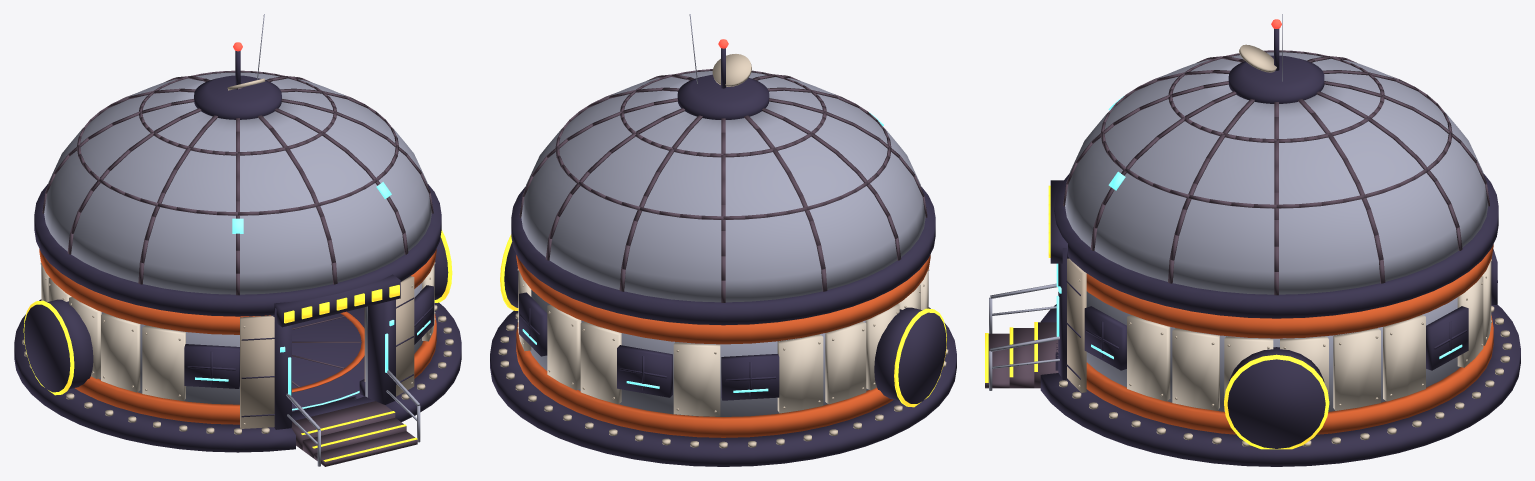
File: hab_enterable.glb
The picture shows the model from 3 angles, left to right: view 1: azimuth 30°, elevation 25°; view 2: azimuth 150°, elevation 25°; view 3: azimuth 270°, elevation 25°; orthographic projection. The views are drawn at different scales.
Parts seen in each view (by area): view 1: Hab_silver_b20, Hab_slate_b60, Hab_slate_b35, Hab_mauve_b04, Hab_orange_b35, Hab_pale_b20, Hab_slate_b20, Hab_door_b20, Hab_mauve_b20, Hab_slate_b12, Hab_amber_b12, Hab_cream_b12 (+4 smaller); view 2: Hab_silver_b20, Hab_slate_b60, Hab_pale_b20, Hab_orange_b35, Hab_mauve_b04, Hab_slate_b35, Hab_slate_b12, Hab_cream_b12, Hab_amber_b12, Hab_slate_b04; view 3: Hab_silver_b20, Hab_slate_b60, Hab_pale_b20, Hab_orange_b35, Hab_slate_b35, Hab_mauve_b04, Hab_slate_b12, Hab_mauve_b20, Hab_door_b20, Hab_cream_b12, Hab_amber_b12, Hab_silver_b12.
Boxes of the visible parts, bbox=[...] form: Hab_silver_b20: bbox=[44, 72, 431, 404]; Hab_slate_b60: bbox=[14, 184, 461, 452]; Hab_slate_b35: bbox=[24, 75, 448, 429]; Hab_mauve_b04: bbox=[42, 70, 433, 387]; Hab_orange_b35: bbox=[39, 249, 436, 424]; Hab_pale_b20: bbox=[41, 263, 434, 401]; Hab_slate_b20: bbox=[292, 307, 374, 420]; Hab_door_b20: bbox=[240, 276, 414, 428]; Hab_mauve_b20: bbox=[291, 401, 417, 466]; Hab_slate_b12: bbox=[184, 51, 433, 388]; Hab_amber_b12: bbox=[23, 230, 452, 461]; Hab_cream_b12: bbox=[22, 78, 453, 434]; Hab_silver_b20: bbox=[521, 71, 925, 416]; Hab_slate_b60: bbox=[490, 187, 956, 466]; Hab_pale_b20: bbox=[518, 270, 928, 416]; Hab_orange_b35: bbox=[516, 255, 930, 437]; Hab_mauve_b04: bbox=[519, 69, 927, 302]; Hab_slate_b35: bbox=[504, 74, 946, 403]; Hab_slate_b12: bbox=[519, 48, 779, 400]; Hab_cream_b12: bbox=[498, 54, 948, 448]; Hab_amber_b12: bbox=[500, 234, 946, 407]; Hab_slate_b04: bbox=[519, 308, 775, 396]; Hab_silver_b20: bbox=[1065, 52, 1487, 411]; Hab_slate_b60: bbox=[1040, 173, 1520, 466]; Hab_pale_b20: bbox=[1127, 261, 1491, 411]; Hab_orange_b35: bbox=[1086, 244, 1493, 434]; Hab_slate_b35: bbox=[1050, 55, 1325, 448]; Hab_mauve_b04: bbox=[1063, 50, 1489, 295]; Hab_slate_b12: bbox=[1084, 28, 1497, 370]; Hab_mauve_b20: bbox=[985, 322, 1058, 388]; Hab_door_b20: bbox=[1067, 258, 1086, 392]; Hab_cream_b12: bbox=[1059, 44, 1511, 446]; Hab_amber_b12: bbox=[985, 185, 1329, 449]; Hab_silver_b12: bbox=[989, 283, 1059, 390].
Bounding box in the file's own units: 7.96 × 6.57 × 8.73.
